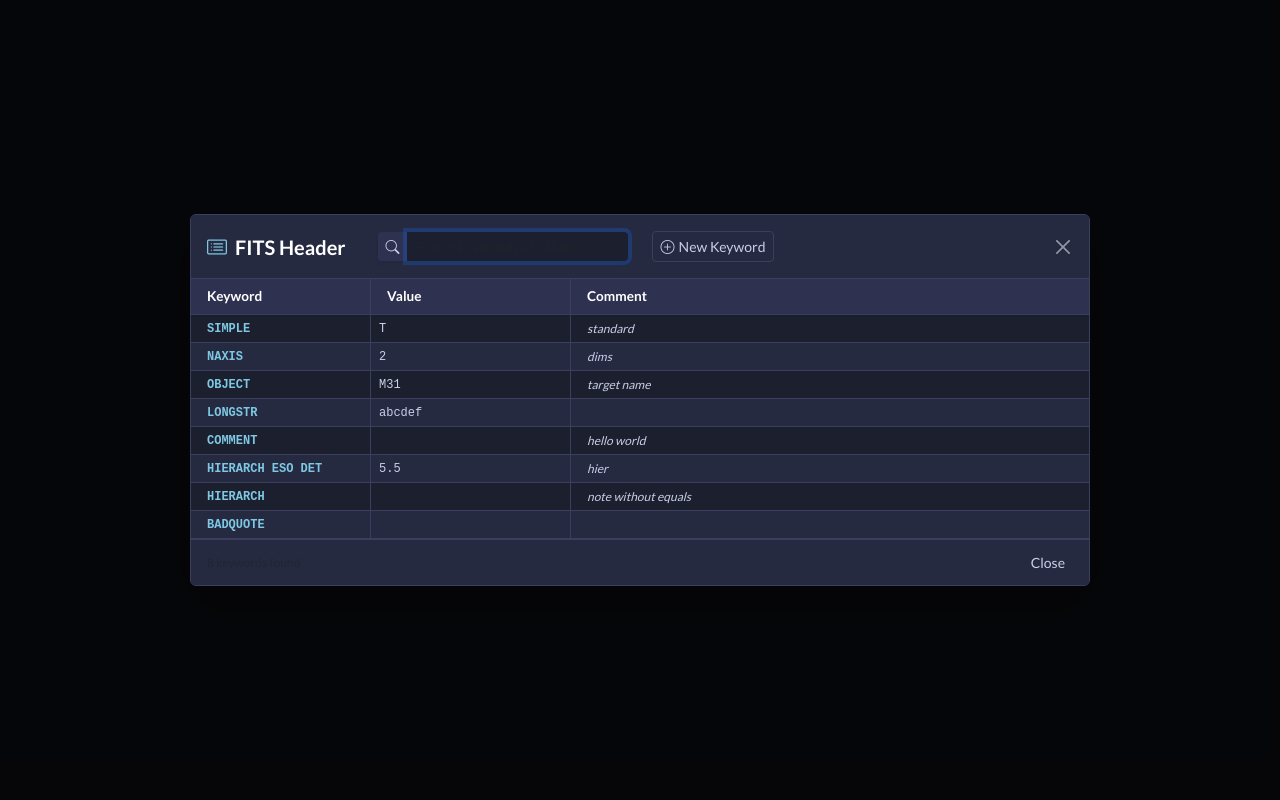
Test: FitsHeaderModal › add keyword form › shows inline feedback on failure and keeps the form values
Click the button "New Keyword": [713, 246] box [652, 231, 774, 262]
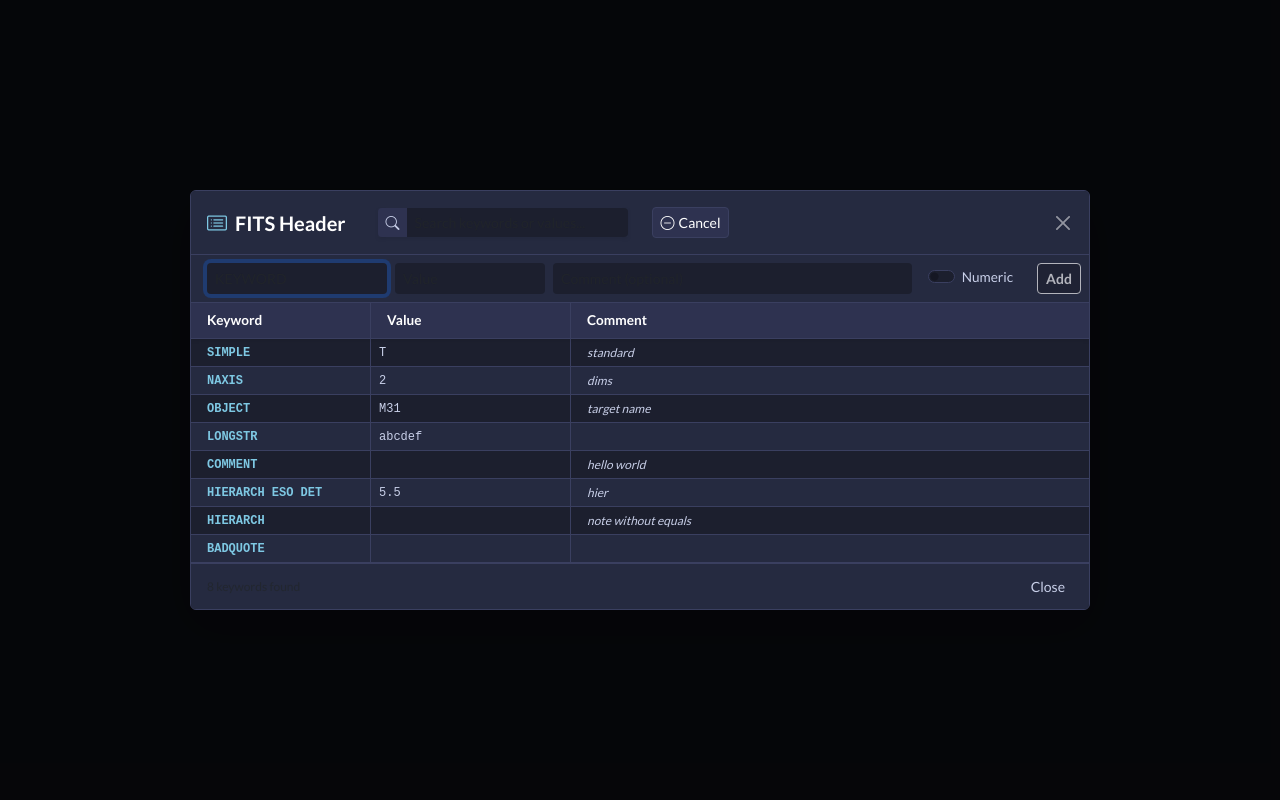
In the field with placeholder "KEYWORD": [297, 278] box [207, 263, 387, 294], type "k"
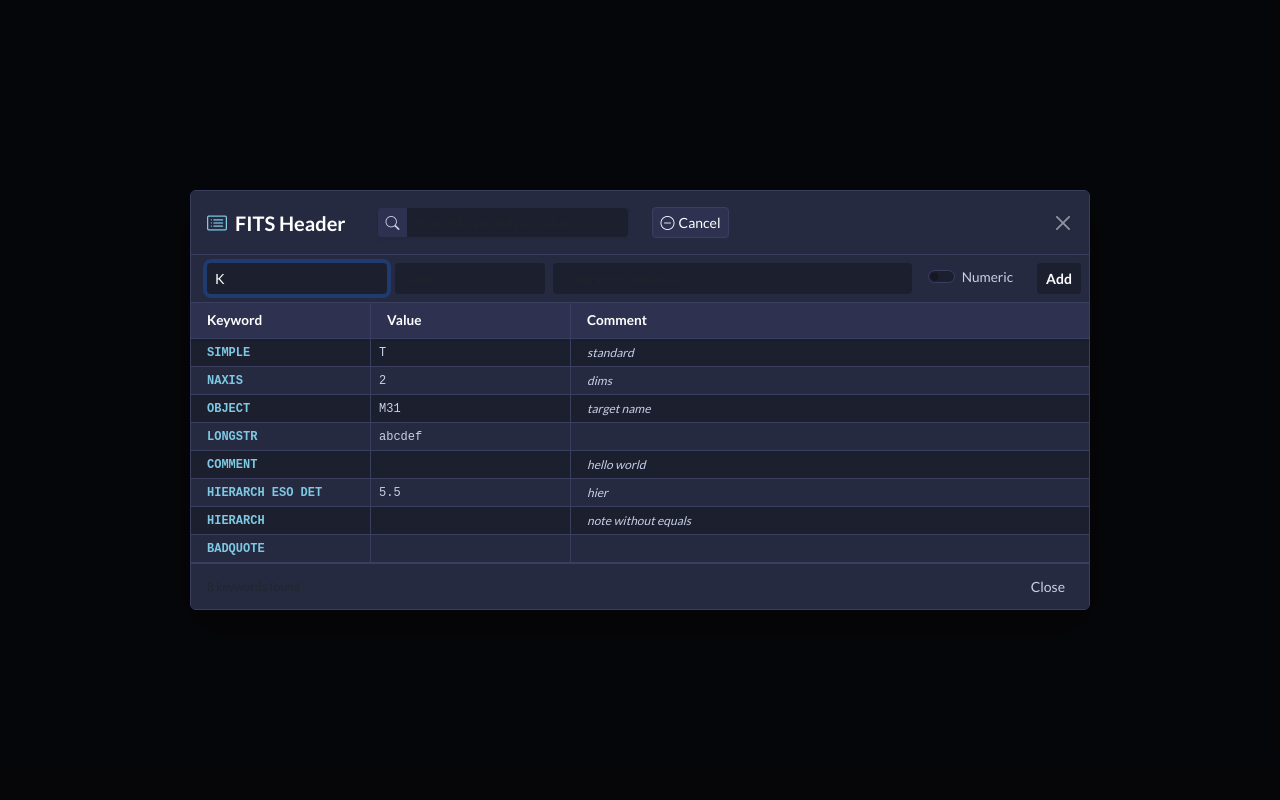
Click the button "Add": [1059, 278] box [1037, 263, 1081, 294]
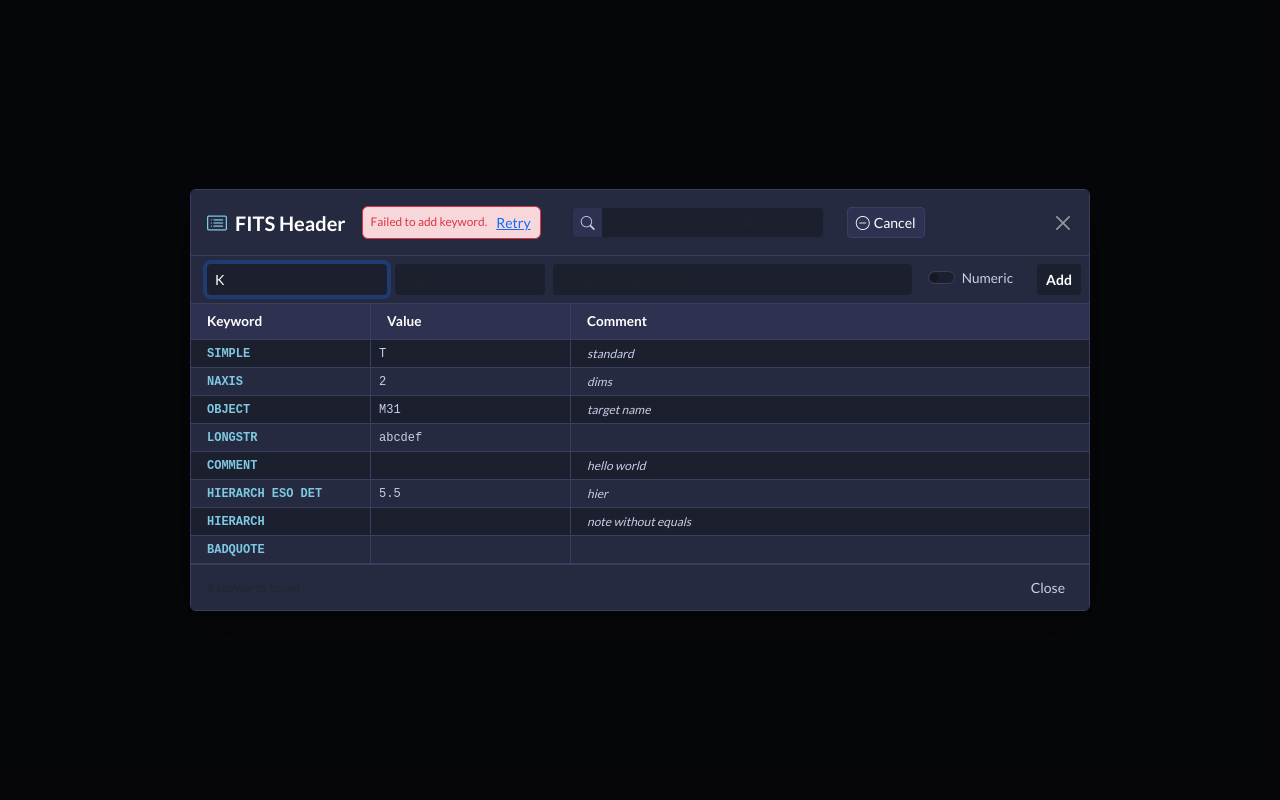
Expected: the text "Failed to add keyword." is shown, [370, 214, 487, 228]
